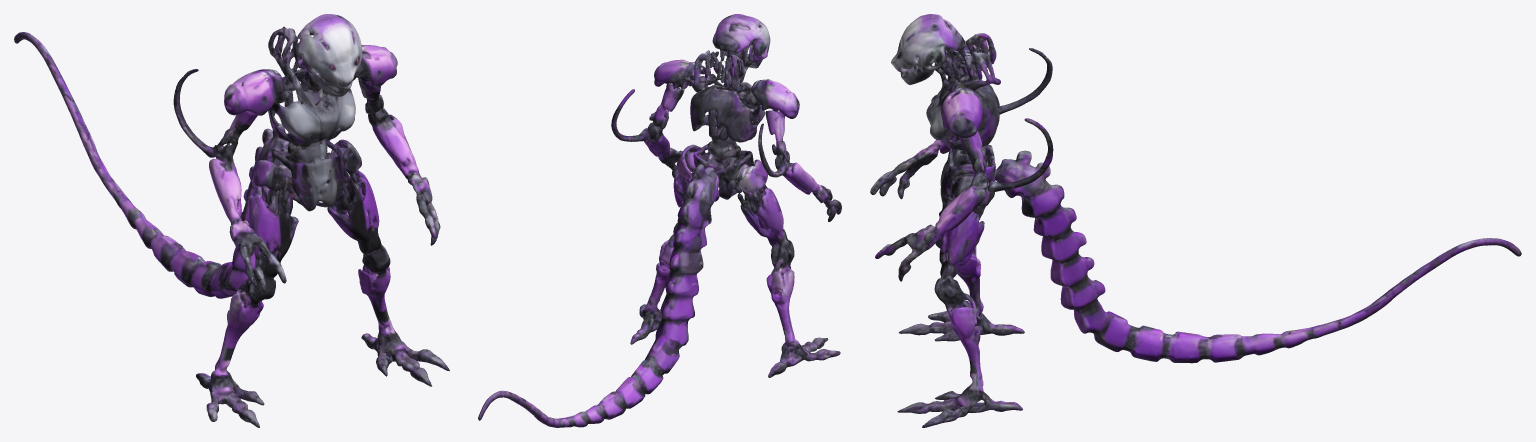
File: CartaIA.fbx
3 views of the same model, side by side, from view 1: azimuth 30°, elevation 25°; view 2: azimuth 150°, elevation 25°; view 3: azimuth 270°, elevation 25° (orthographic). The views are drawn at different scales.
Visible parts, largest first — view 1: IA; view 2: IA; view 3: IA.
Part boxes in pixels (x1,y1,x2,y2): IA: [14, 14, 449, 427]; IA: [478, 14, 841, 427]; IA: [870, 14, 1521, 427].
Size of the model in its own units: 78.83 by 122 by 201.
1 material, 1 textured.
